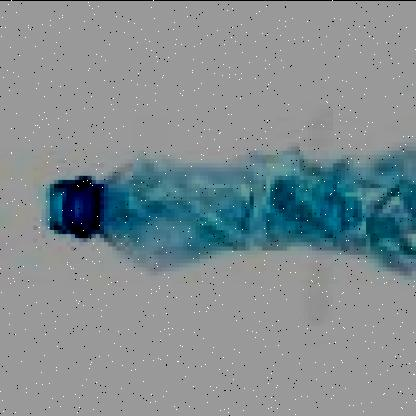Plastic Bottle: (38, 142, 416, 280)
